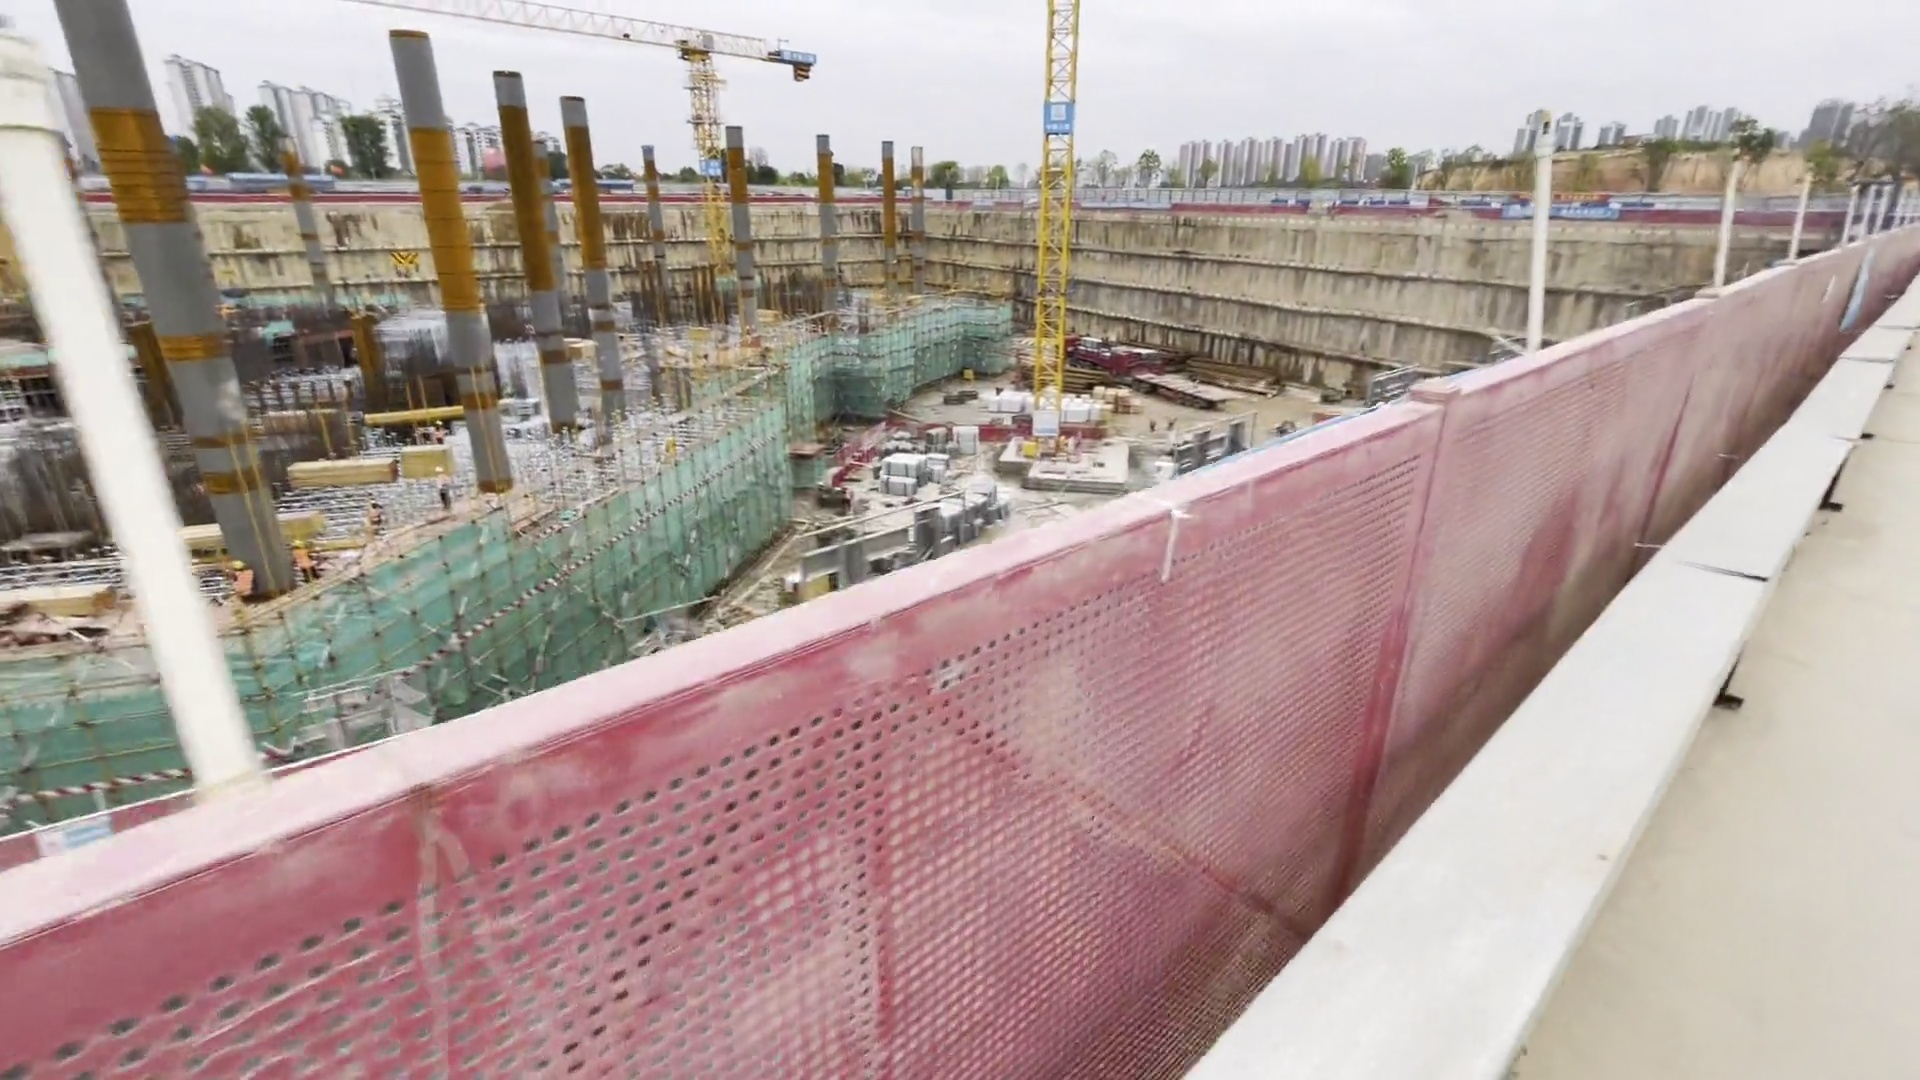helmet: (295, 529, 312, 553), (231, 554, 244, 573), (431, 461, 448, 474)
person: (418, 457, 482, 531), (227, 550, 284, 617), (285, 528, 335, 601), (367, 495, 416, 565)
vest: (231, 570, 262, 599), (366, 508, 394, 534), (294, 546, 317, 570), (436, 472, 457, 497)
